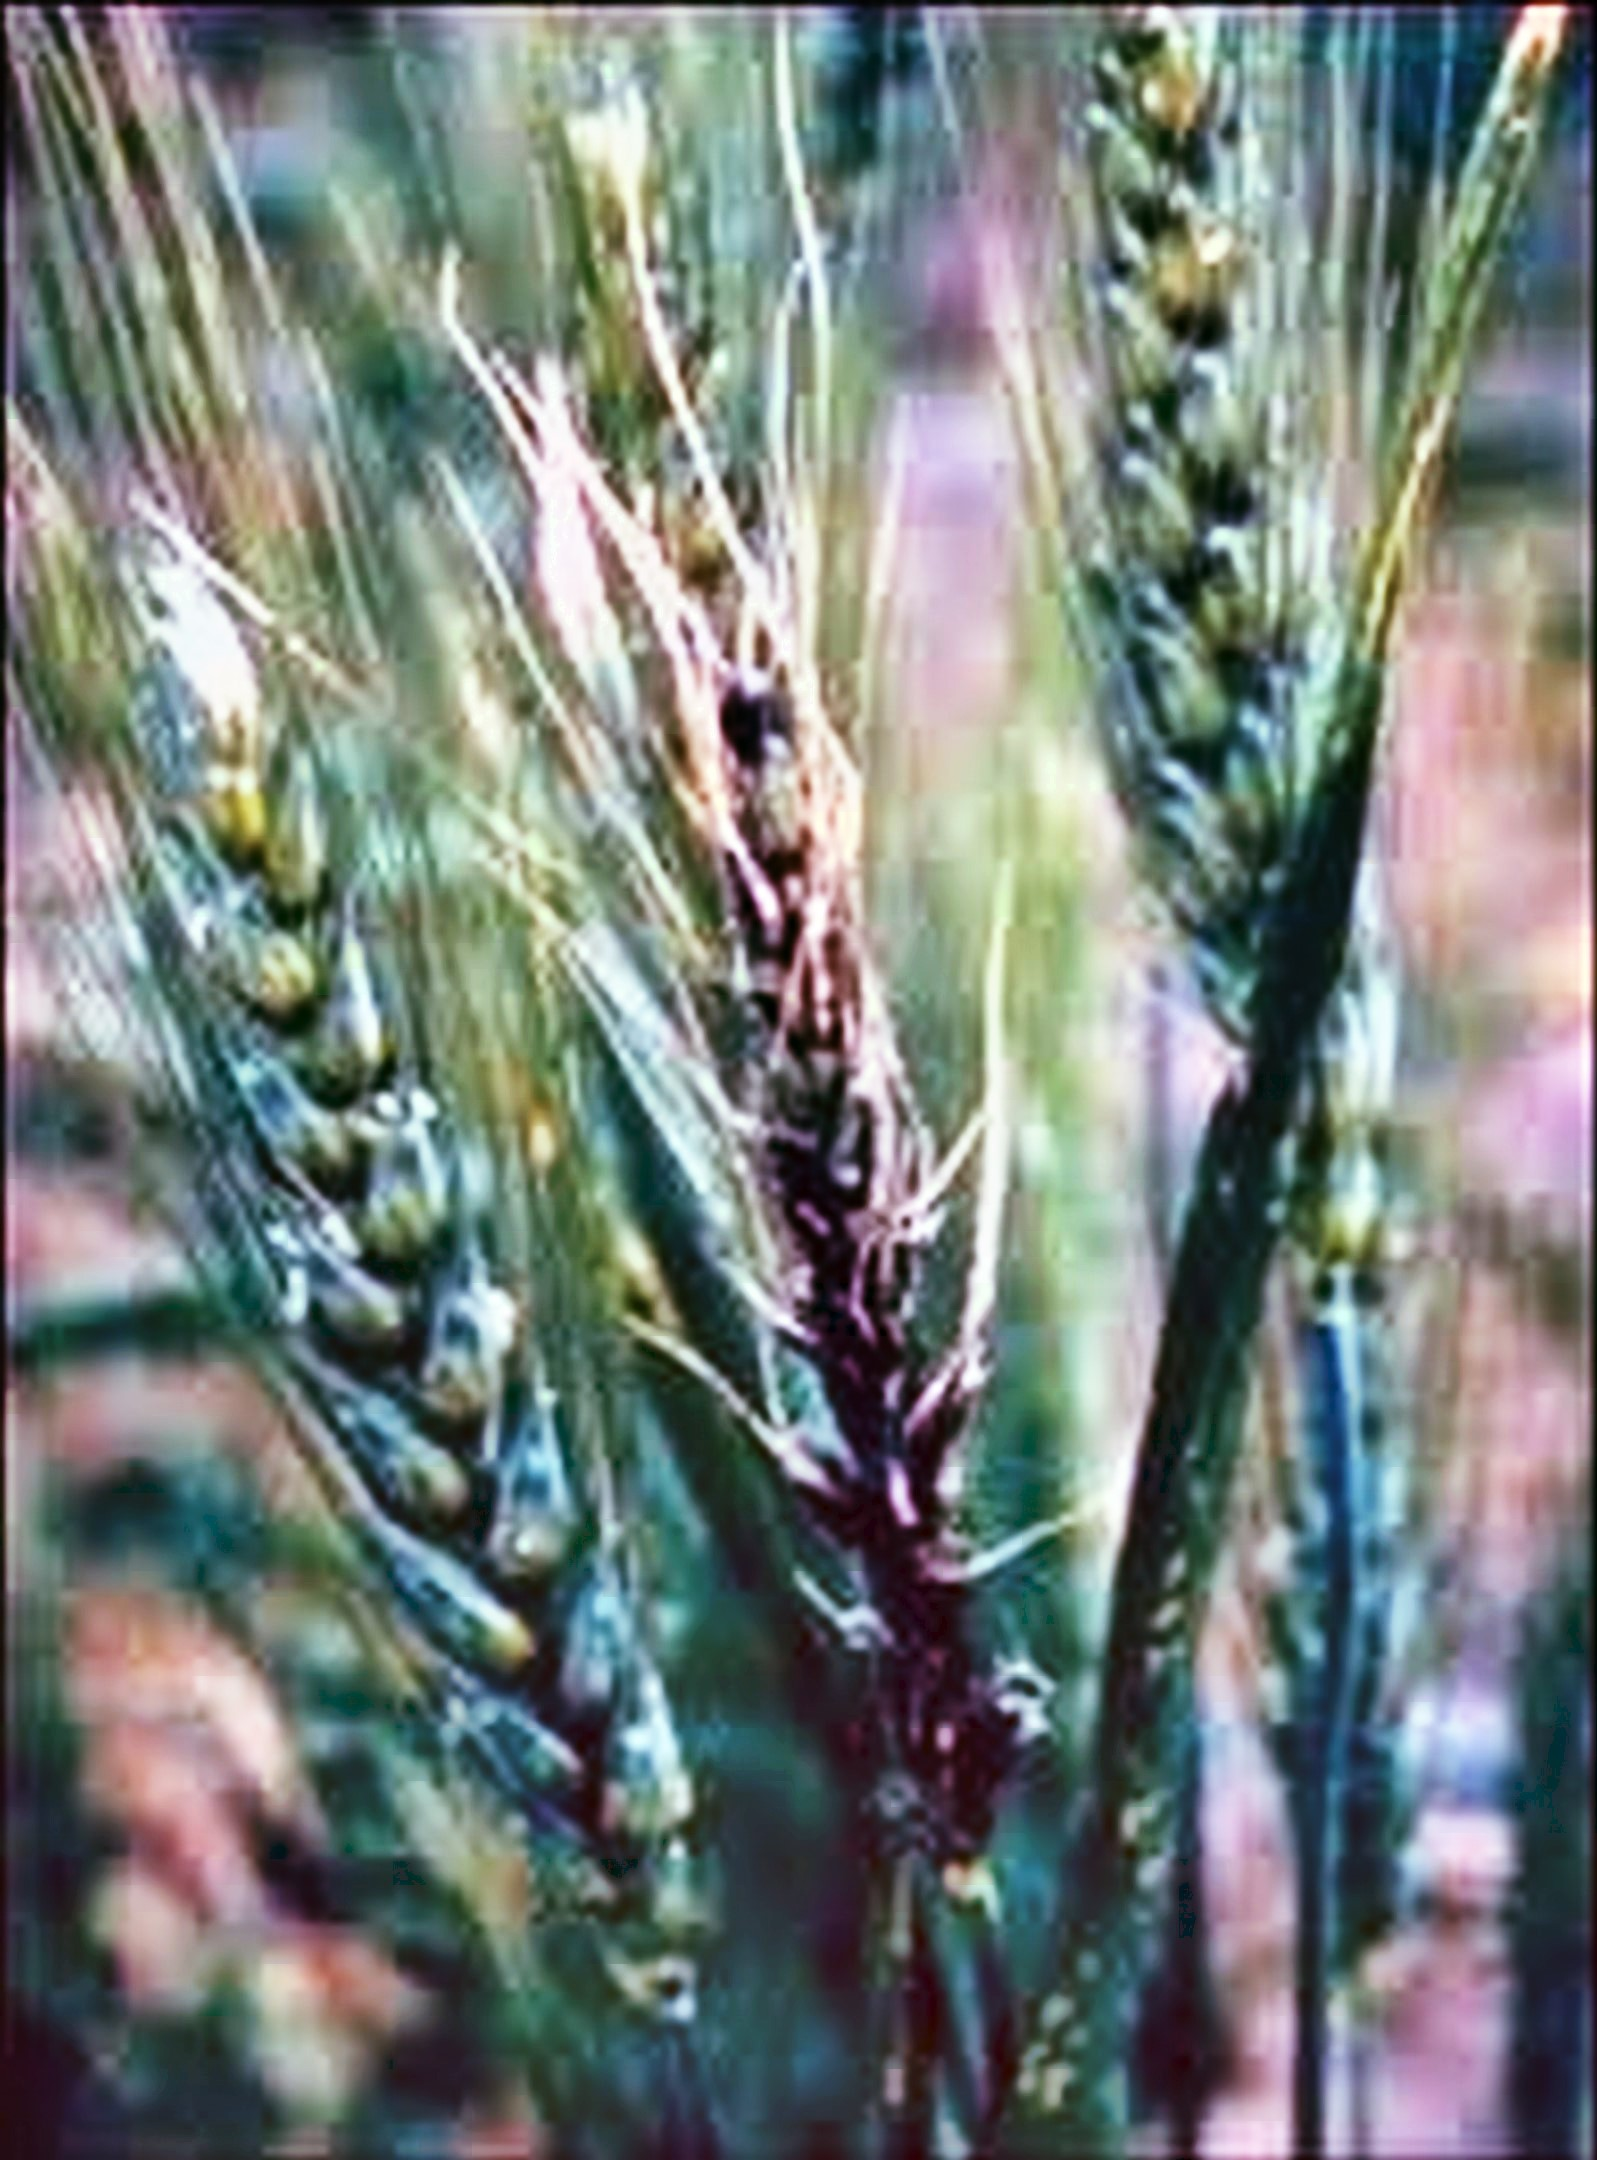Wheat Loose Smut: (659, 649, 1048, 1746)
